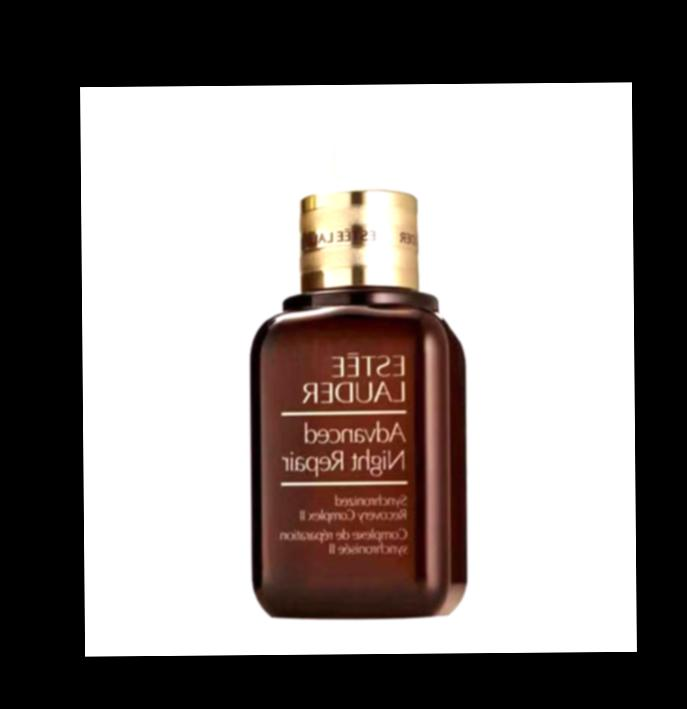cosmetic: (246, 100, 457, 611)
